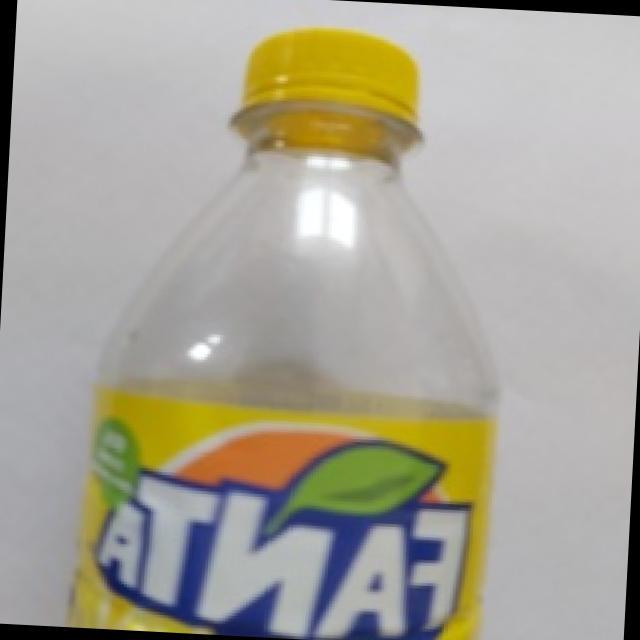good: (79, 6, 516, 640)
